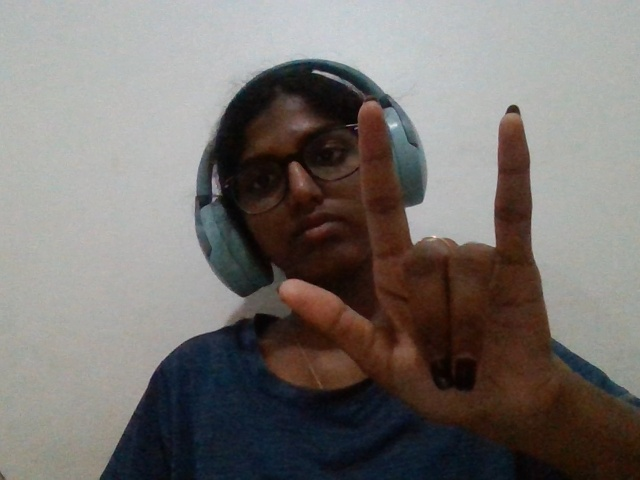I Love You: (267, 82, 603, 480)
